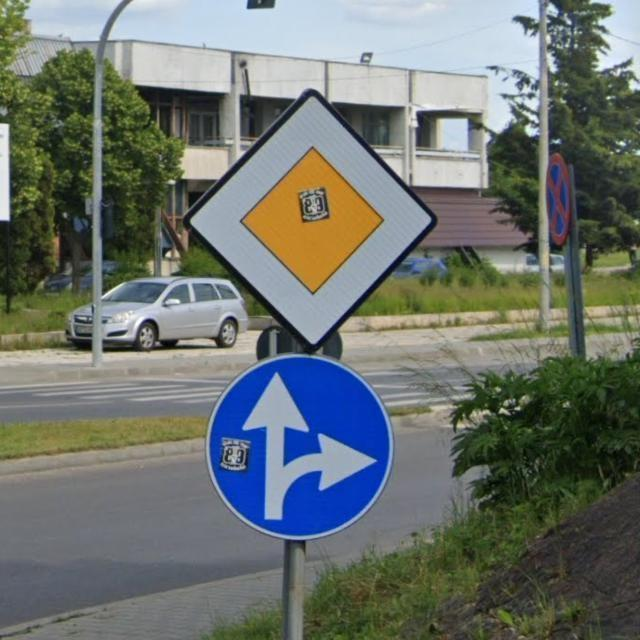forb_waiting: (546, 153, 572, 246)
